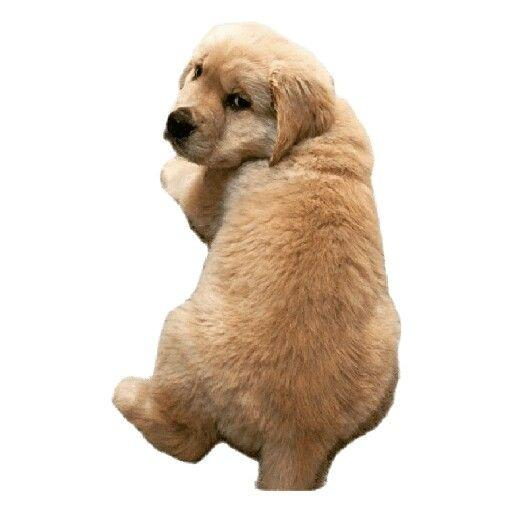puppy-dog: (103, 16, 402, 499)
